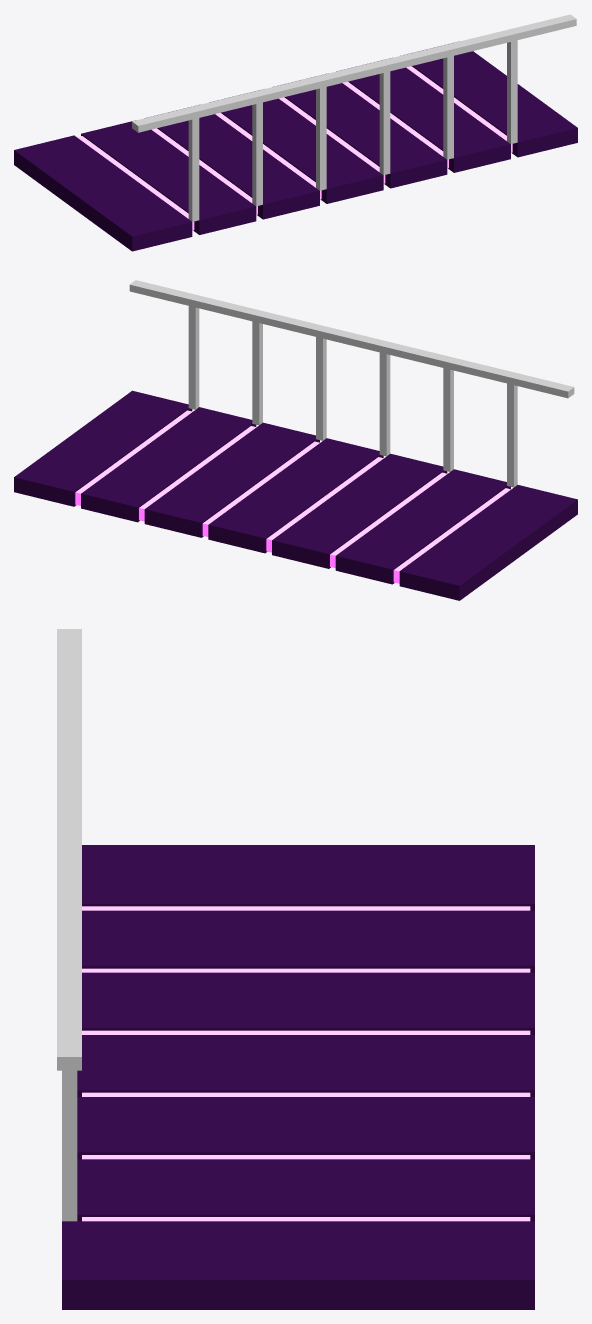
Rendered from Terraza.B_AssestsConcert.fbx.
The picture shows the model from 3 angles, top to bottom: view 1: azimuth 30°, elevation 25°; view 2: azimuth 150°, elevation 25°; view 3: azimuth 270°, elevation 25°; orthographic projection. The views are drawn at different scales.
Visible parts, largest first — view 1: TerrazaGood; view 2: TerrazaGood; view 3: TerrazaGood.
Part boxes in pixels (box(x1,y1,x2,y2)): TerrazaGood: box(14, 14, 577, 251); TerrazaGood: box(14, 280, 577, 600); TerrazaGood: box(57, 629, 534, 1309).
Bounding box in the file's own units: 1419 × 381 × 659.
